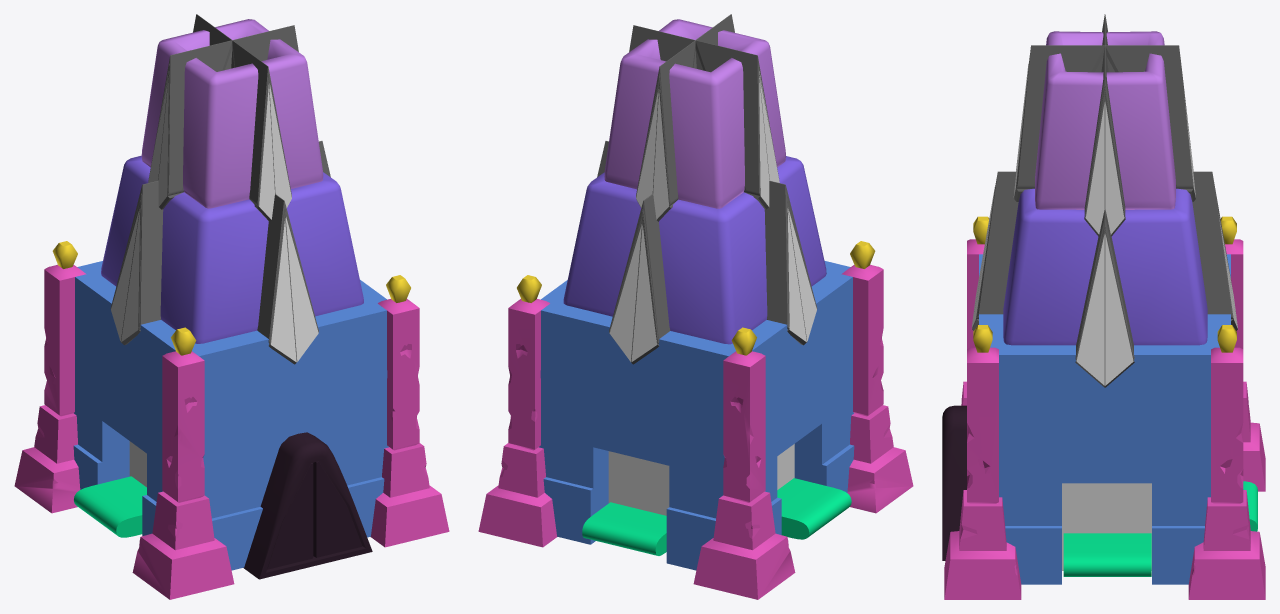
The model's file is Main Tower LV3.fbx.
3 views of the same model, side by side, from view 1: azimuth 30°, elevation 25°; view 2: azimuth 150°, elevation 25°; view 3: azimuth 270°, elevation 25° (orthographic). The views are drawn at different scales.
Parts seen in each view (by area): view 1: Cube.007; view 2: Cube.007; view 3: Cube.007.
Boxes of the visible parts, x1=… form: Cube.007: x1=14, y1=14, x2=449, y2=599; Cube.007: x1=478, y1=14, x2=913, y2=599; Cube.007: x1=942, y1=14, x2=1265, y2=599.
Bounding box in the file's own units: 254 × 408 × 246.
